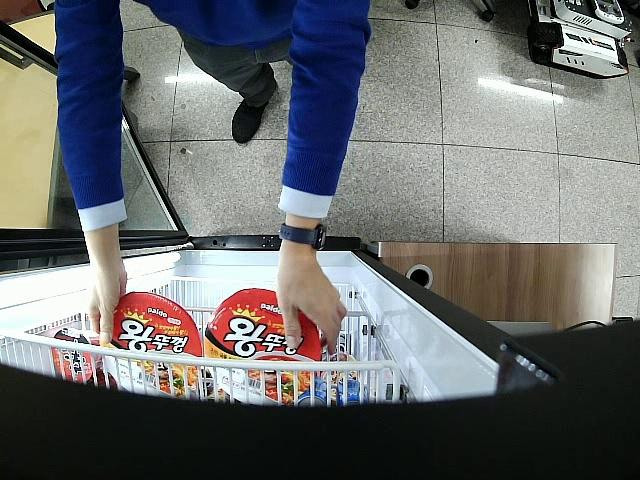00_hand: (276, 256, 347, 355), (86, 251, 128, 347)
10_wangTtukkeong: (203, 288, 321, 404), (104, 292, 202, 398)
